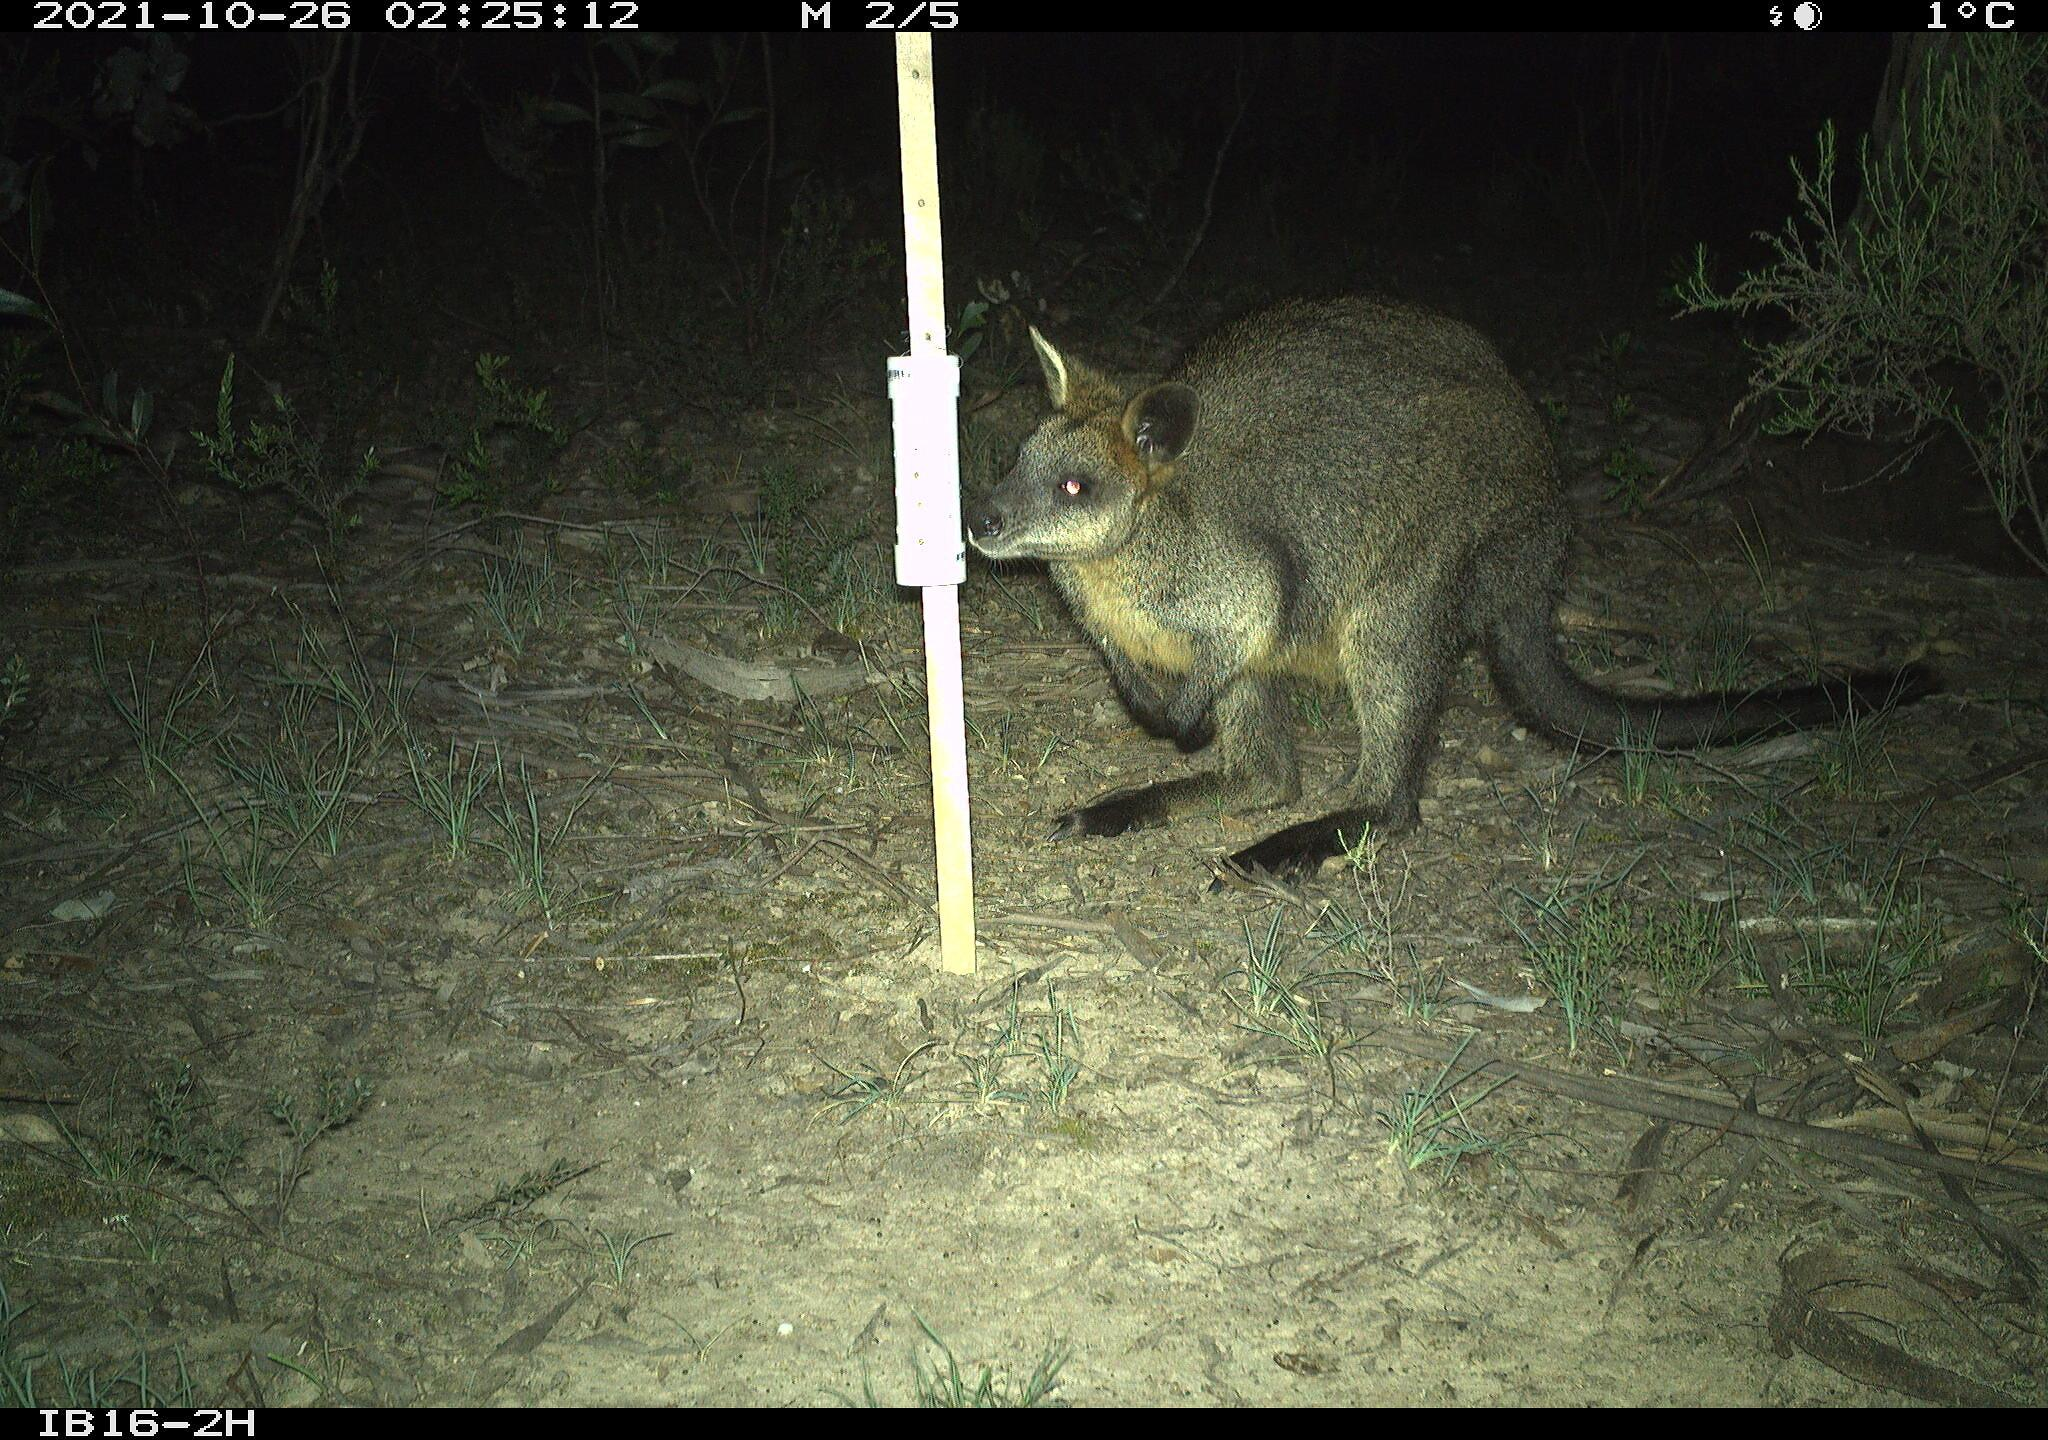Swamp wallaby: (973, 268, 1972, 882)
